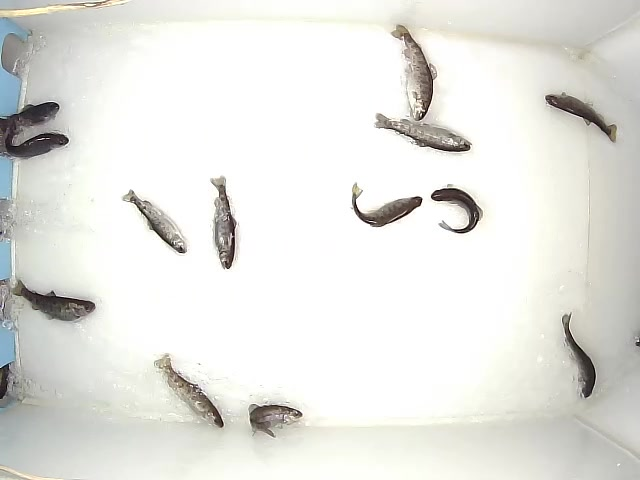fish: (152, 352, 225, 430), (388, 24, 438, 121), (120, 188, 188, 254), (373, 112, 472, 154), (544, 91, 618, 145), (8, 278, 96, 323), (349, 181, 423, 228), (560, 311, 596, 400), (209, 174, 238, 272), (430, 183, 483, 235), (5, 122, 69, 162), (1, 101, 60, 138), (247, 403, 303, 440)
